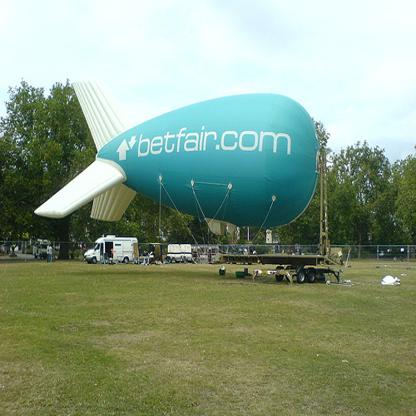Airship: (33, 74, 317, 234)
